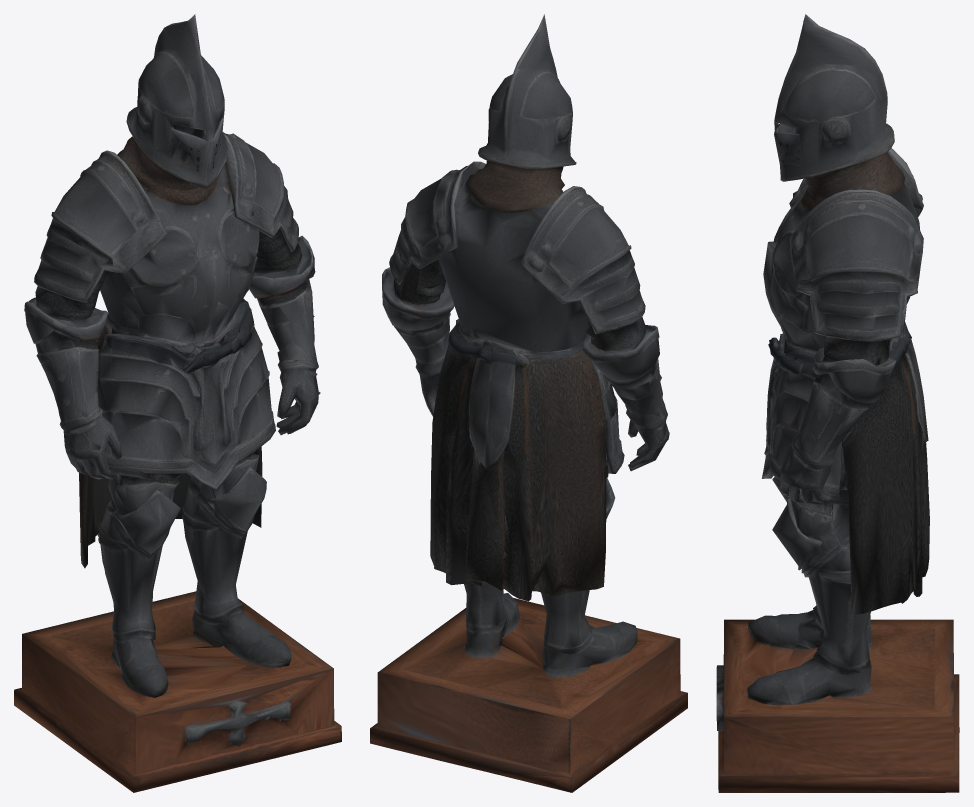
The model's file is armour.glb.
The picture shows the model from 3 angles, left to right: view 1: azimuth 30°, elevation 25°; view 2: azimuth 150°, elevation 25°; view 3: azimuth 270°, elevation 25°; orthographic projection. The views are drawn at different scales.
Parts seen in each view (by area): view 1: armour; view 2: armour; view 3: armour.
Boxes of the visible parts, bbox=[...] form: armour: bbox=[14, 14, 341, 792]; armour: bbox=[370, 14, 687, 792]; armour: bbox=[716, 14, 959, 792].
Size of the model in its own units: 0.8234 by 2.05 by 0.6212.
1 material, 1 textured.
